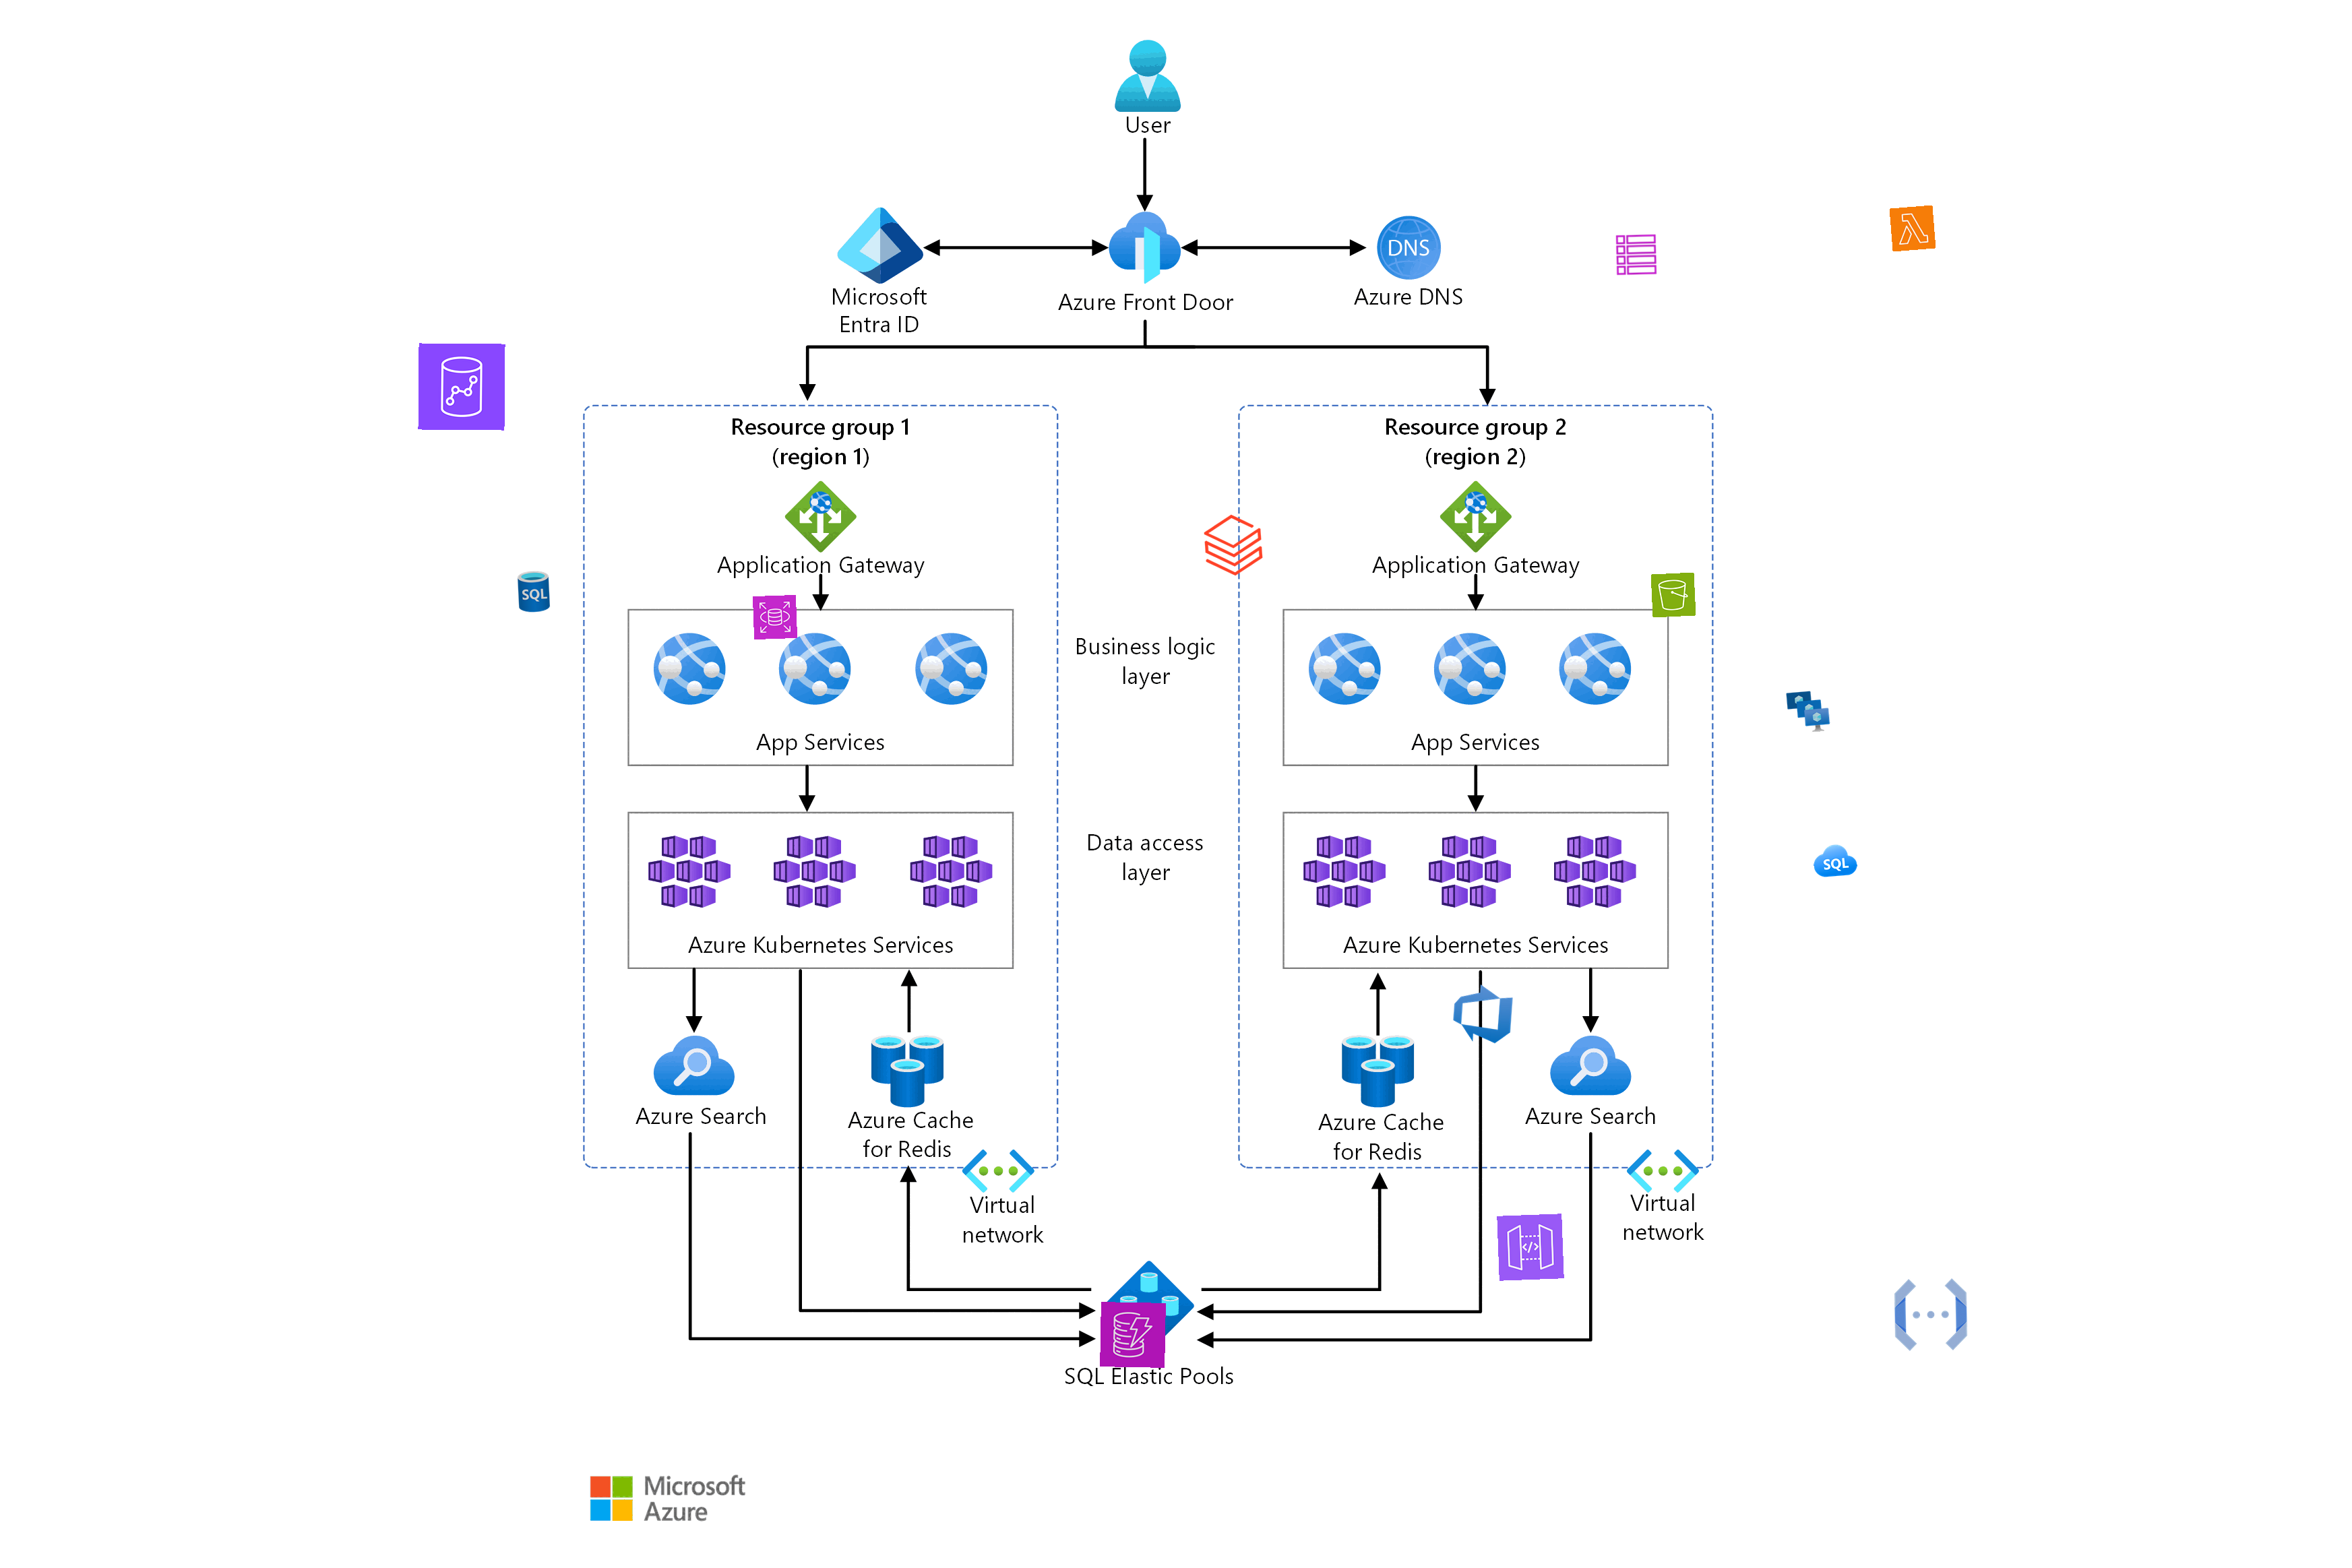aws_amazon_api_gateway: (1496, 1213, 1565, 1281)
aws_amazon_dynamodb: (1099, 1302, 1165, 1369)
aws_amazon_rds: (752, 595, 798, 640)
aws_amazon_redshift: (418, 343, 506, 431)
aws_amazon_simple_storage_service: (1650, 572, 1696, 618)
aws_dynamodb_table: (1613, 233, 1659, 277)
aws_lambda: (1888, 205, 1935, 252)
azure_databricks: (1199, 509, 1269, 581)
azure_devops: (1447, 978, 1517, 1048)
azure_sql: (1811, 838, 1859, 886)
azure_sql_database: (511, 569, 556, 614)
azure_vm_scale_sets: (1783, 688, 1830, 735)
gcp_cloud_functions: (1886, 1270, 1976, 1360)
